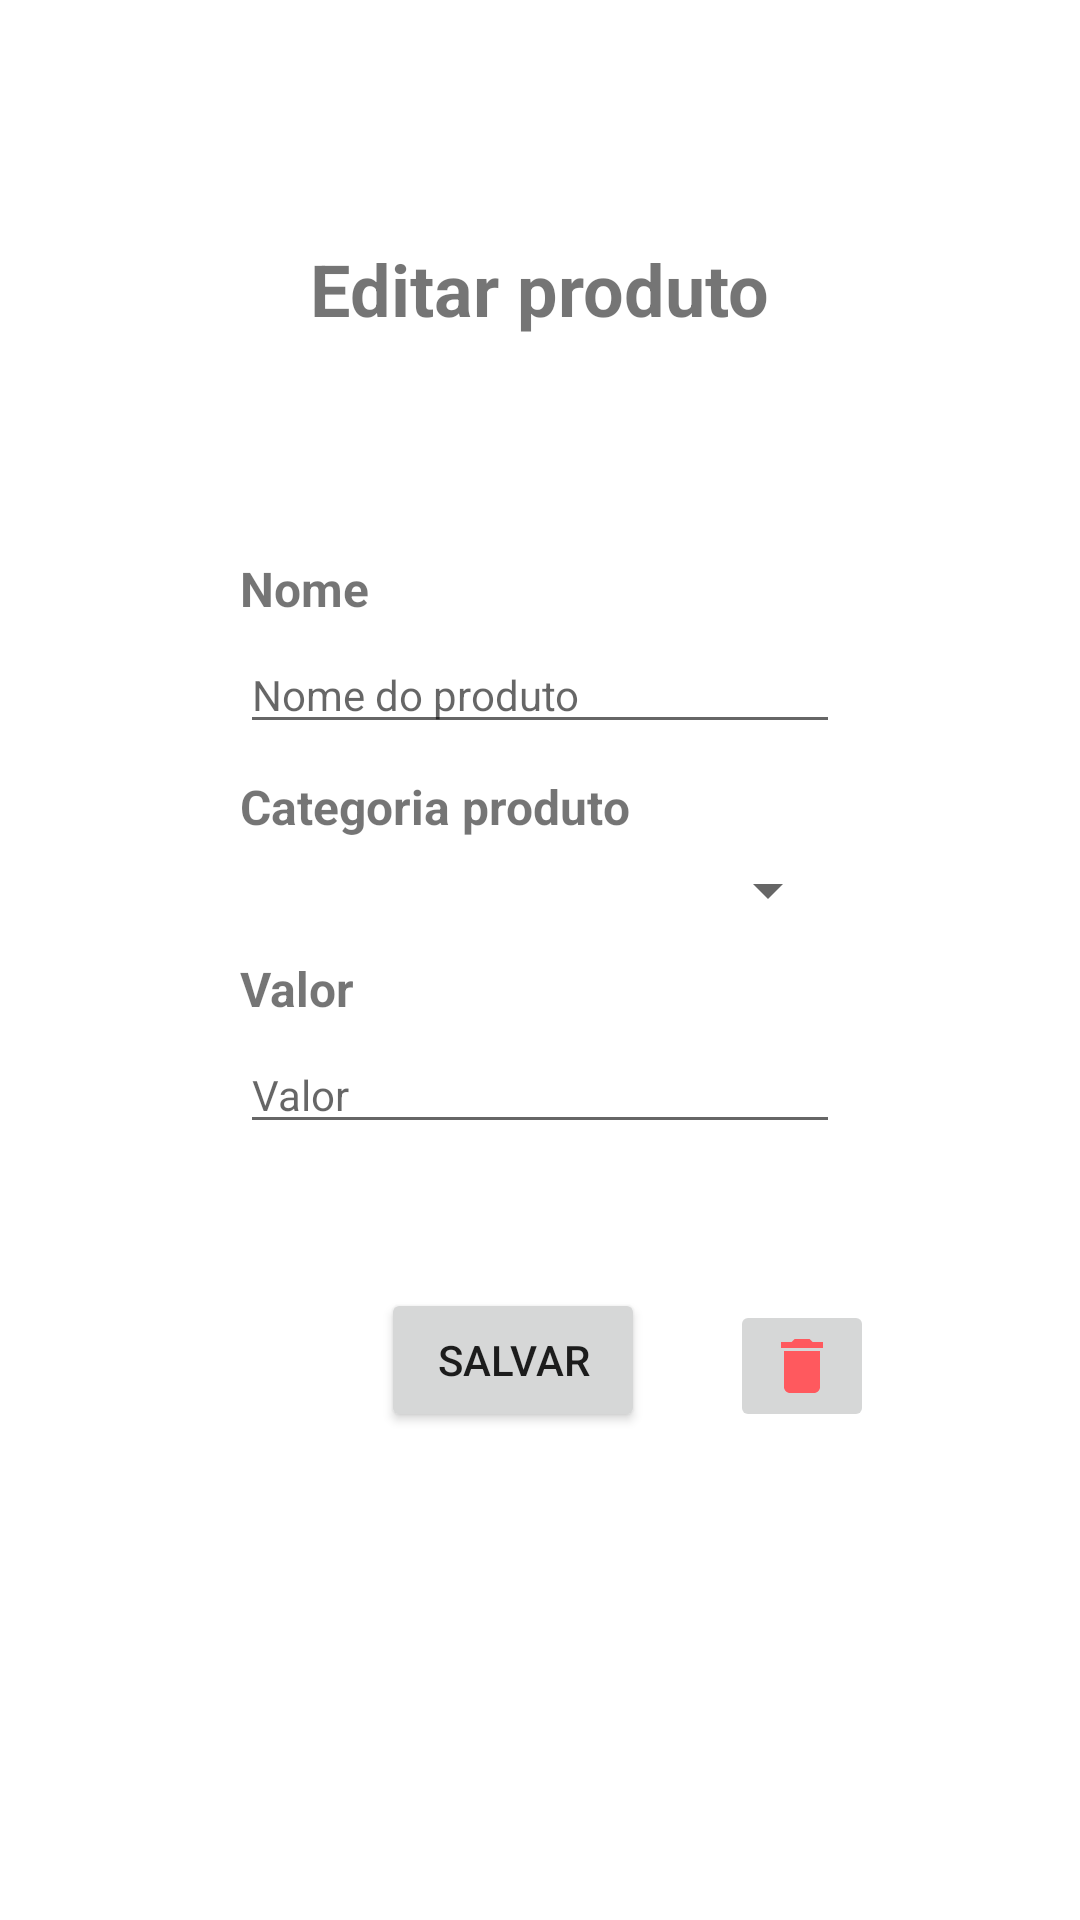

Icon bounding boxes for this 1080px x 1920px phone screenshot, format (x1, y1, x2, y2):
delete: (742, 1318, 862, 1414)
